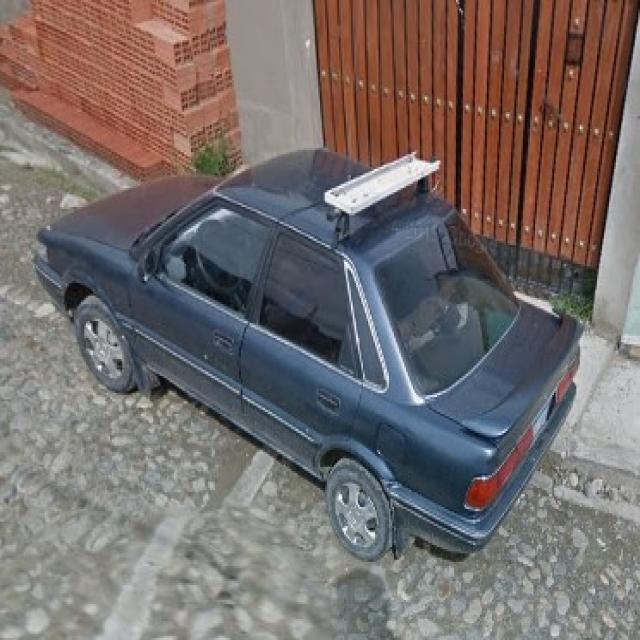Car: (46, 148, 574, 533)
